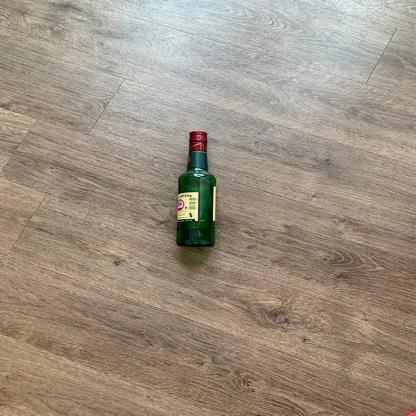trash: (176, 128, 220, 248)
